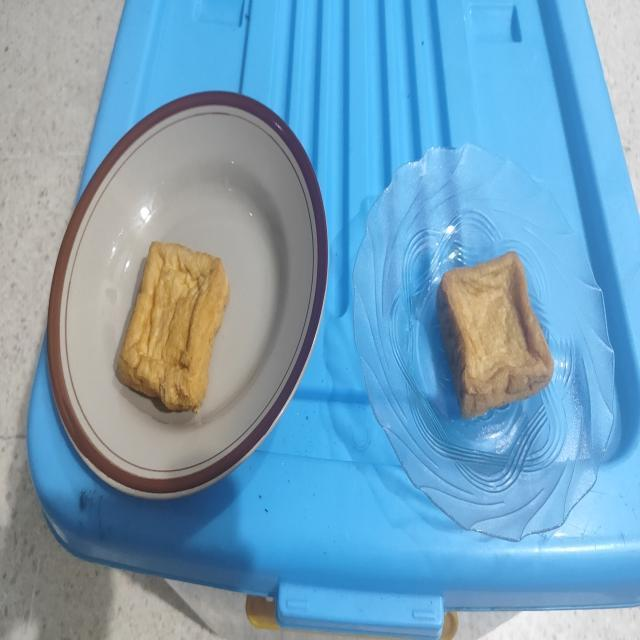tahu_goreng: (436, 252, 554, 418), (118, 242, 230, 412)
